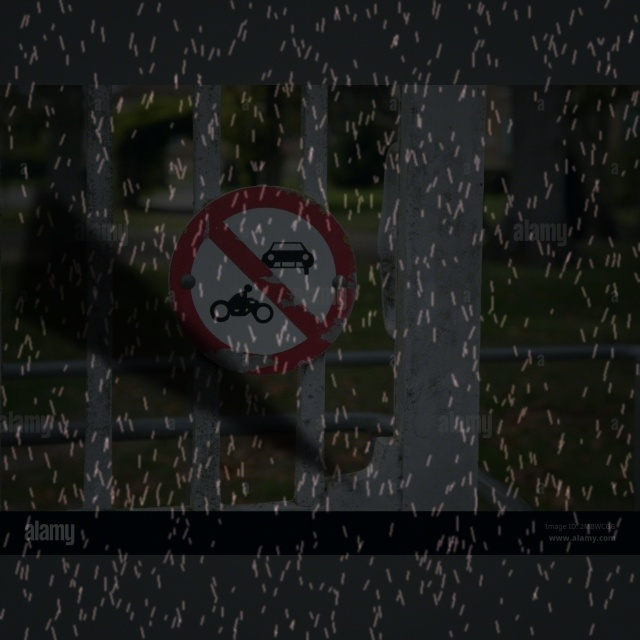All_Motor_Vehicles_Prohibited: (167, 189, 353, 378)
